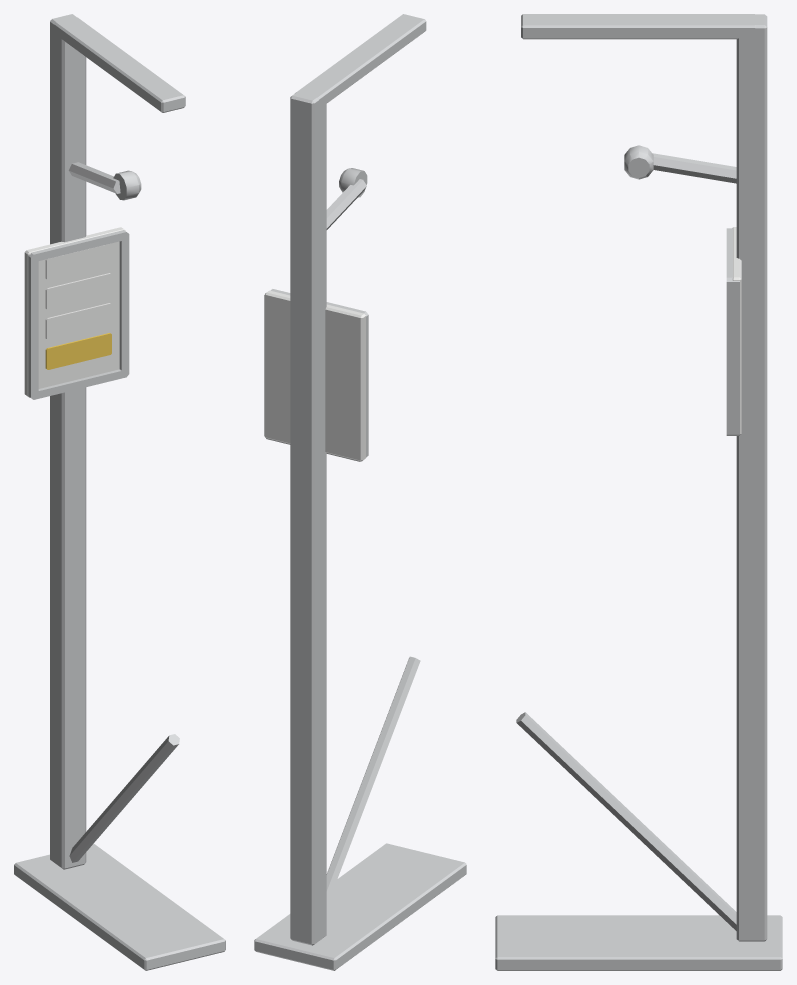
Rendered from laundrette-and-cleaning-hanger-rail-end-post-2d6b949b__25561.glb.
3 views of the same model, side by side, from view 1: azimuth 30°, elevation 25°; view 2: azimuth 150°, elevation 25°; view 3: azimuth 270°, elevation 25° (orthographic). The views are drawn at different scales.
Parts seen in each view (by area): view 1: hanger-rail-end-post; view 2: hanger-rail-end-post; view 3: hanger-rail-end-post.
Boxes of the visible parts, x1,y1,x2,y2 form: hanger-rail-end-post: (14, 14, 225, 970); hanger-rail-end-post: (254, 14, 466, 970); hanger-rail-end-post: (495, 14, 782, 970).
Bounding box in the file's own units: 0.2412 × 2 × 0.5599.
